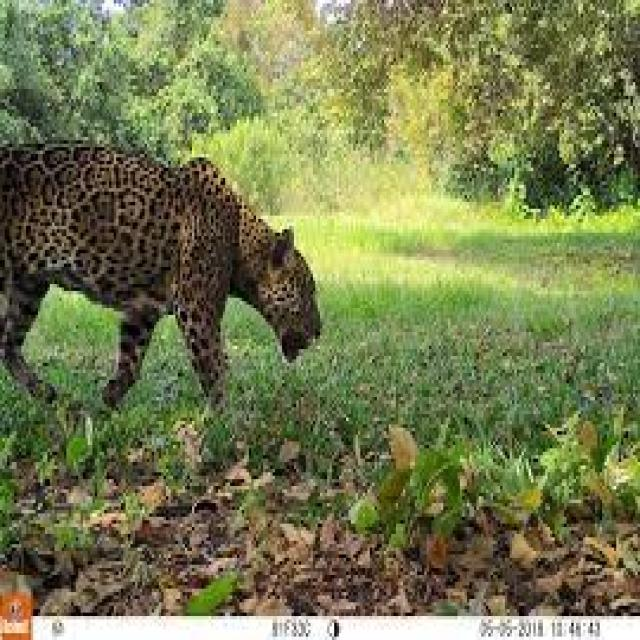Jaguar: (2, 130, 330, 418)
